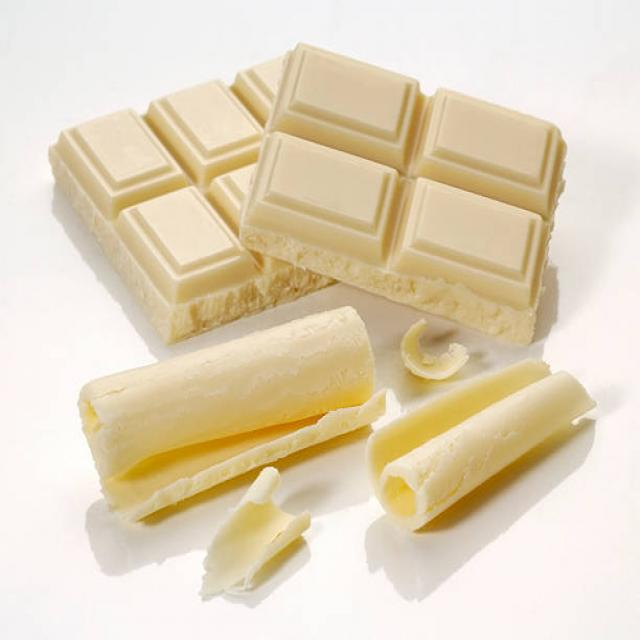Chocolate: (47, 38, 567, 349)
